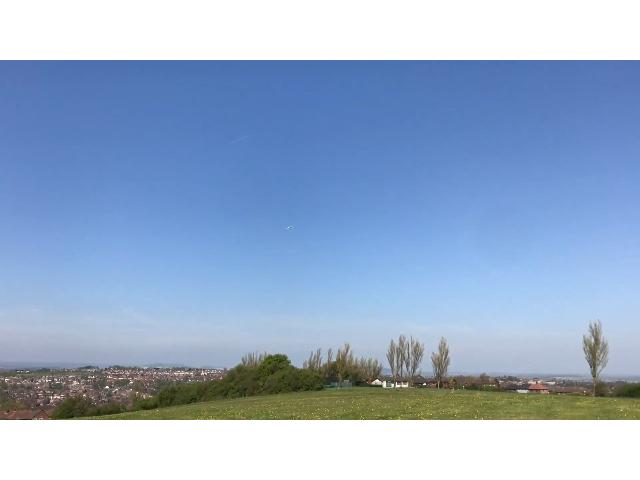Anti-Drone: (280, 222, 300, 234)
